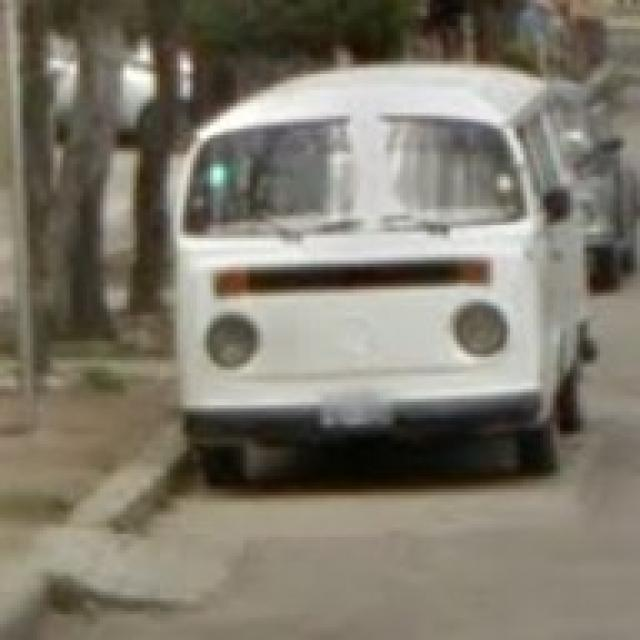cars: (183, 71, 607, 503)
